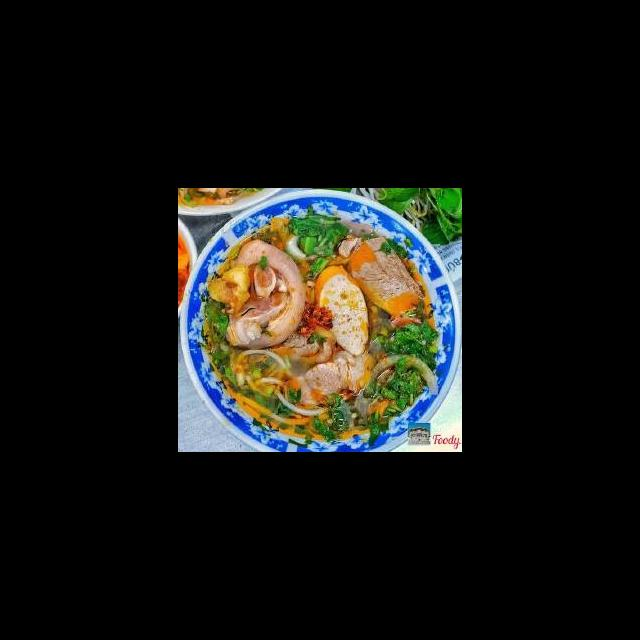bun: (227, 348, 334, 428)
bun bo: (193, 213, 437, 434)
thit bo: (345, 233, 428, 319), (280, 344, 378, 411)
